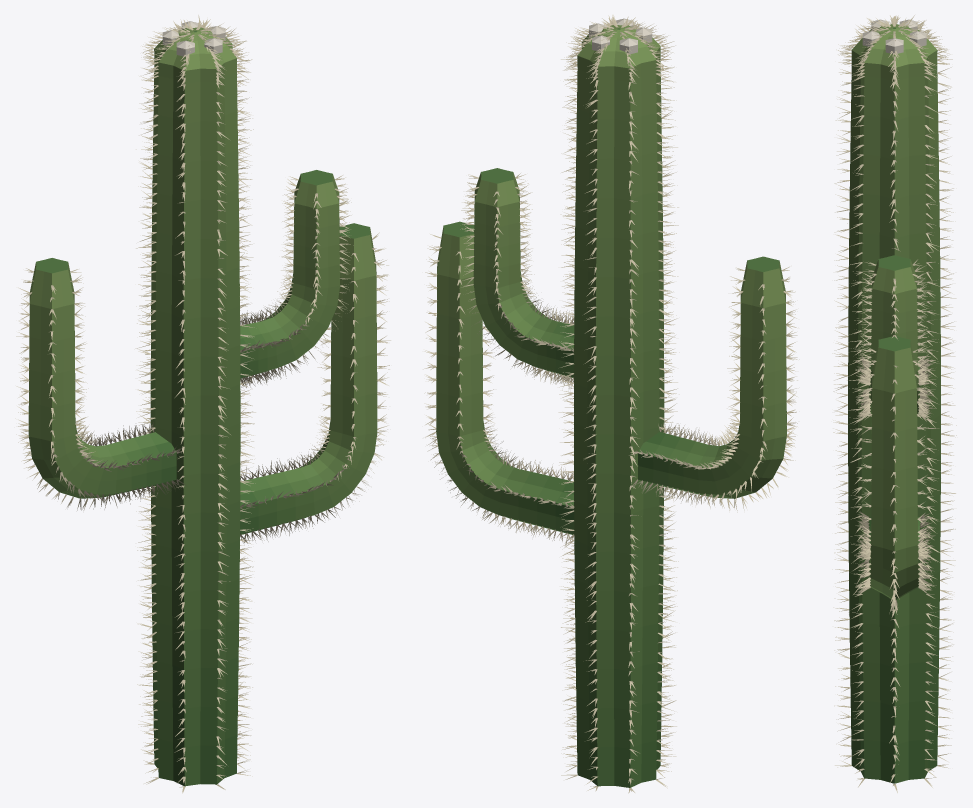
The model's file is saguaro.glb.
3 renders of one model, left to right at view 1: azimuth 30°, elevation 25°; view 2: azimuth 150°, elevation 25°; view 3: azimuth 270°, elevation 25°, orthographic.
Visible parts, largest first — view 1: Trunk, Arm_1, Arm_2, Arm_3, Flowers; view 2: Trunk, Arm_1, Arm_2, Arm_3, Flowers; view 3: Trunk, Arm_1, Arm_3, Flowers.
Boxes of the visible parts, x1=… form: Trunk: x1=135, y1=15, x2=255, y2=793; Arm_1: x1=240, y1=223, x2=390, y2=543; Arm_2: x1=15, y1=258, x2=186, y2=510; Arm_3: x1=240, y1=170, x2=353, y2=387; Flowers: x1=162, y1=21, x2=225, y2=56; Trunk: x1=558, y1=15, x2=679, y2=793; Arm_1: x1=423, y1=221, x2=574, y2=546; Arm_2: x1=629, y1=256, x2=799, y2=512; Arm_3: x1=460, y1=168, x2=574, y2=388; Flowers: x1=589, y1=18, x2=652, y2=54; Trunk: x1=832, y1=15, x2=956, y2=792; Arm_1: x1=855, y1=336, x2=934, y2=614; Arm_3: x1=856, y1=255, x2=933, y2=421; Flowers: x1=862, y1=19, x2=926, y2=54.
Size of the model in its own units: 5.03 by 9.58 by 1.49.
